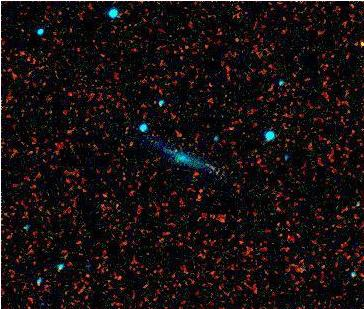star: (346, 30, 364, 60)
